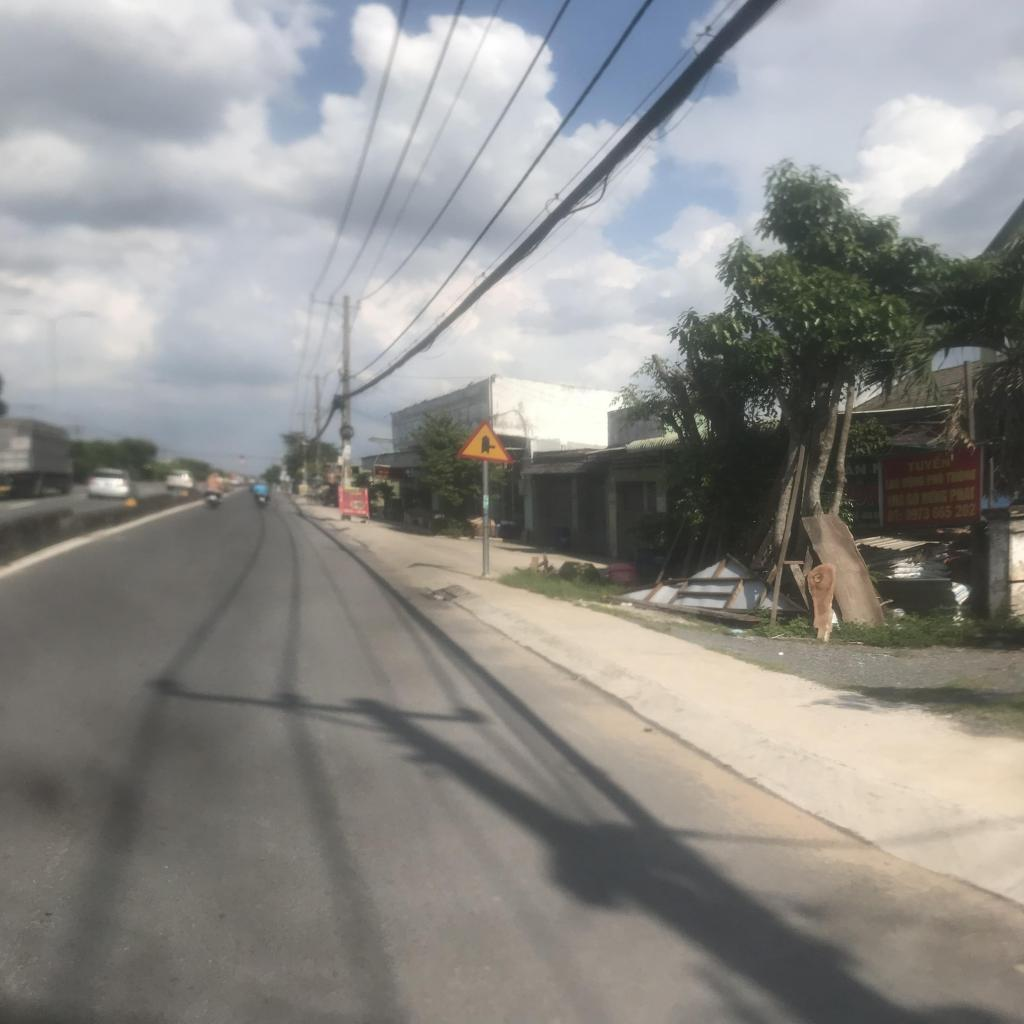giao_nhau_voi_duong_khong_uu_tien: (454, 417, 516, 464)
